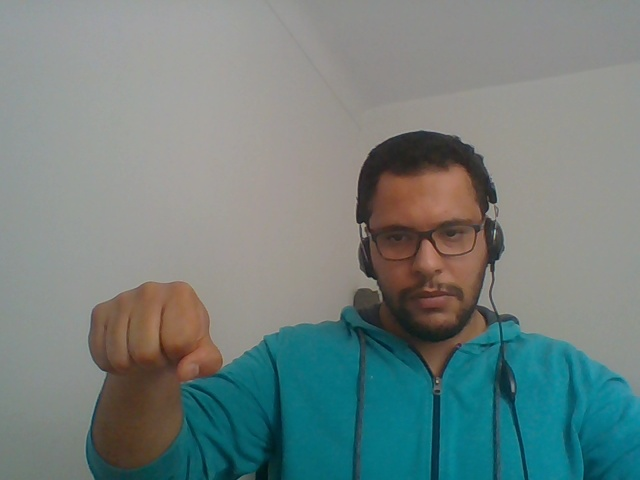yes: (73, 258, 229, 415)
